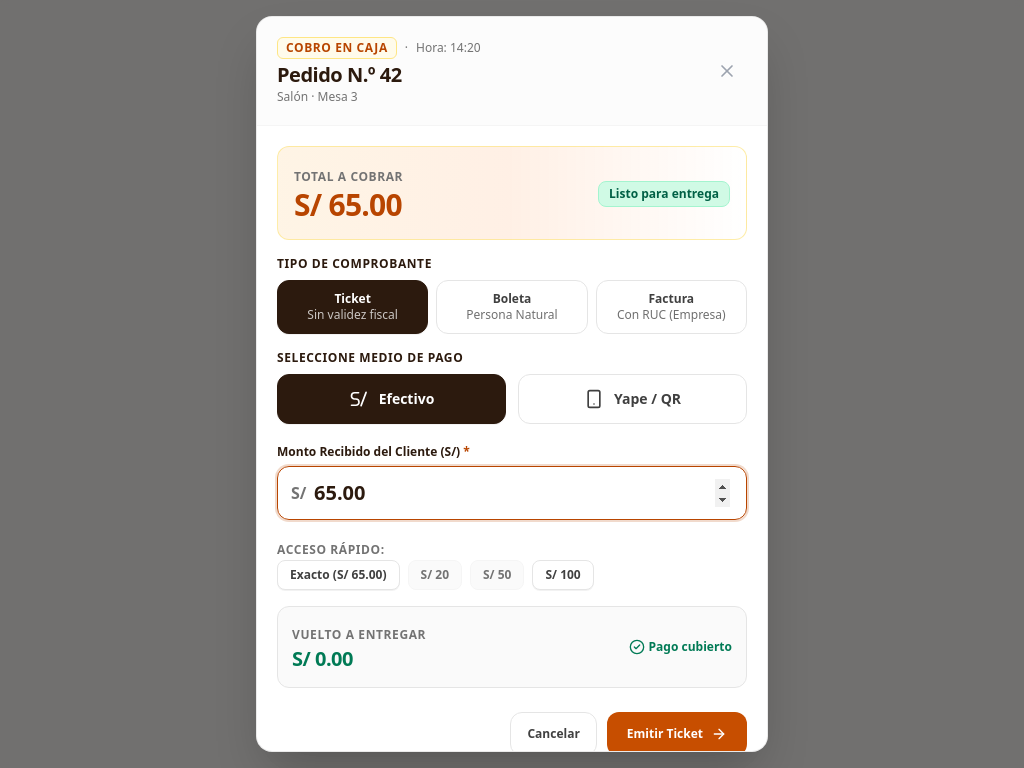
Test: CobroModal - Pruebas de Caracterización y Cálculos Financieros › debe calcular exactamente el vuelto y el faltante al variar el monto recibido en efectivo
Expected: the text "Vuelto a entregar" is shown, [292,626,426,643]
Expected: the text "S/ 0.00" is shown, [292,645,353,672]
Step 1. Replace the text in the number field labelled "Monto Recibido del Cliente (S/) *" with "100.00" → point(512, 493), box [277,466,747,520]
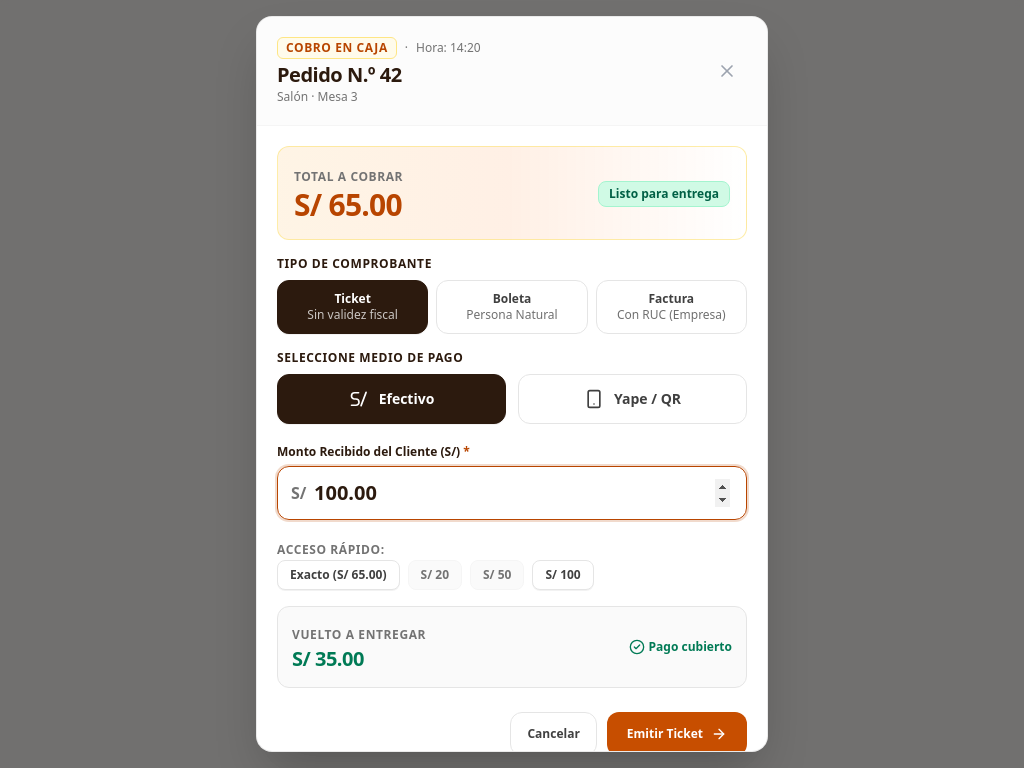
Expected: the text "S/ 35.00" is shown, [292,645,364,672]
Step 2. Replace the text in the number field labelled "Monto Recibido del Cliente (S/) *" with "50.00" → point(512, 493), box [277,466,747,520]
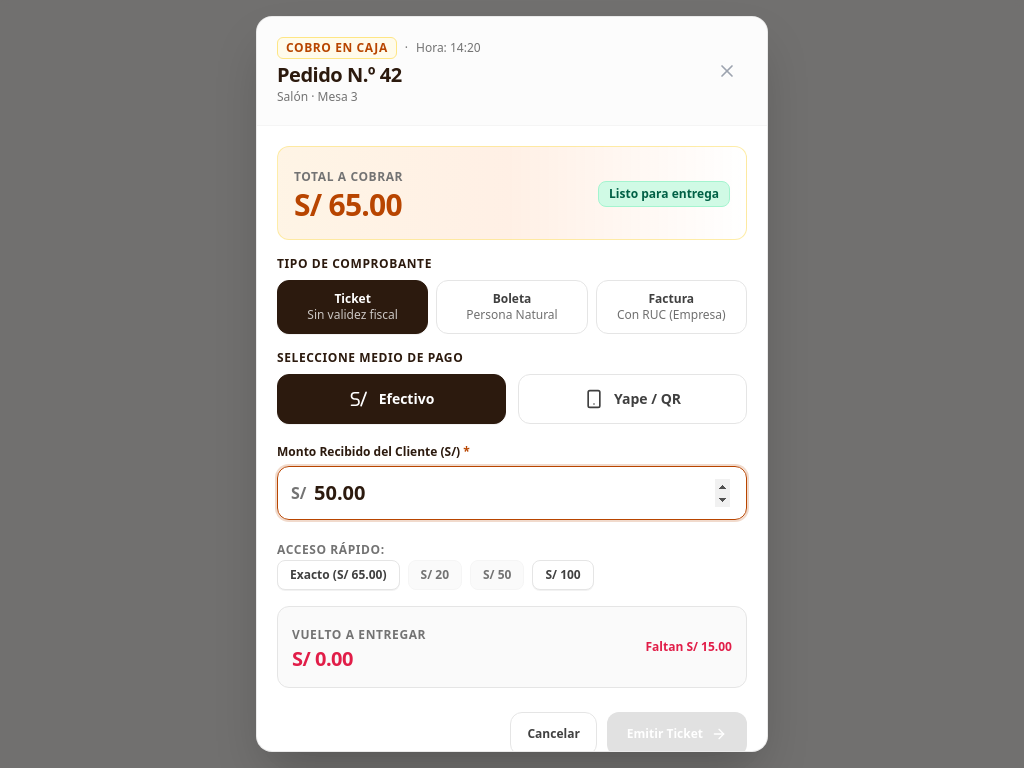
Expected: the text "Faltan S/ 15.00" is shown, [646,639,732,655]
Expected: the button "Emitir Ticket" is disabled, [607,712,747,751]
